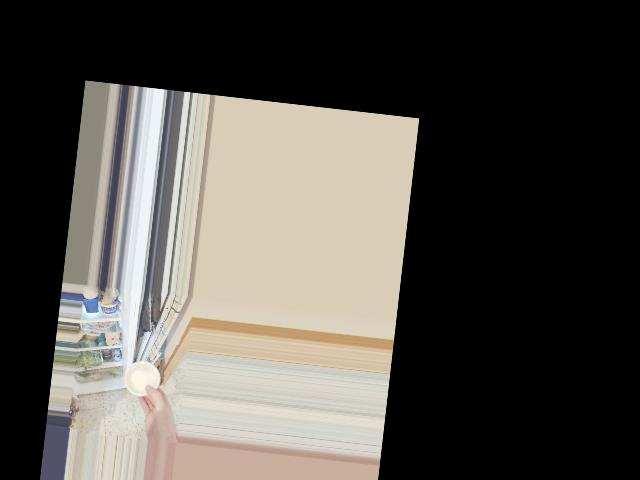cotage: (127, 361, 163, 400)
